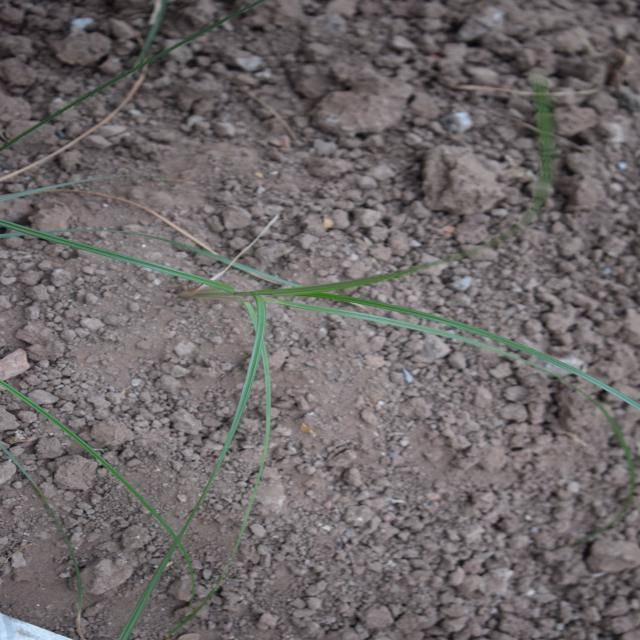sedge: (168, 74, 527, 540)
